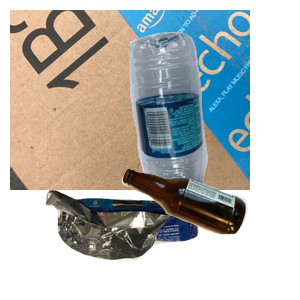cardboard: (10, 10, 250, 190)
glass: (119, 166, 300, 300)
plastic: (127, 29, 300, 209)
trash: (43, 187, 234, 300)
